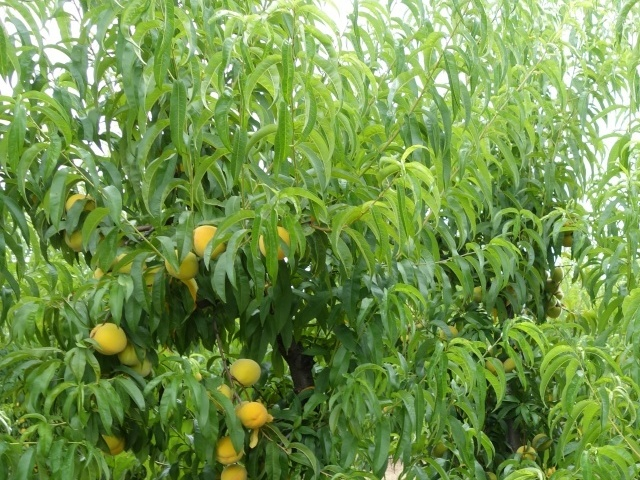peach: (85, 319, 130, 357), (161, 245, 201, 283), (257, 224, 296, 260), (185, 223, 224, 258), (226, 354, 265, 387), (234, 400, 274, 429), (214, 434, 246, 468), (114, 340, 147, 368), (60, 225, 90, 255), (96, 429, 126, 459), (65, 190, 98, 214), (126, 355, 155, 380), (514, 442, 539, 464), (219, 463, 249, 480)
